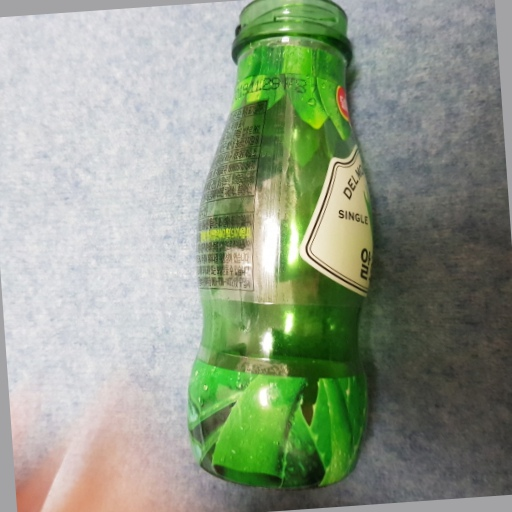Glass_4: (185, 1, 376, 489)
